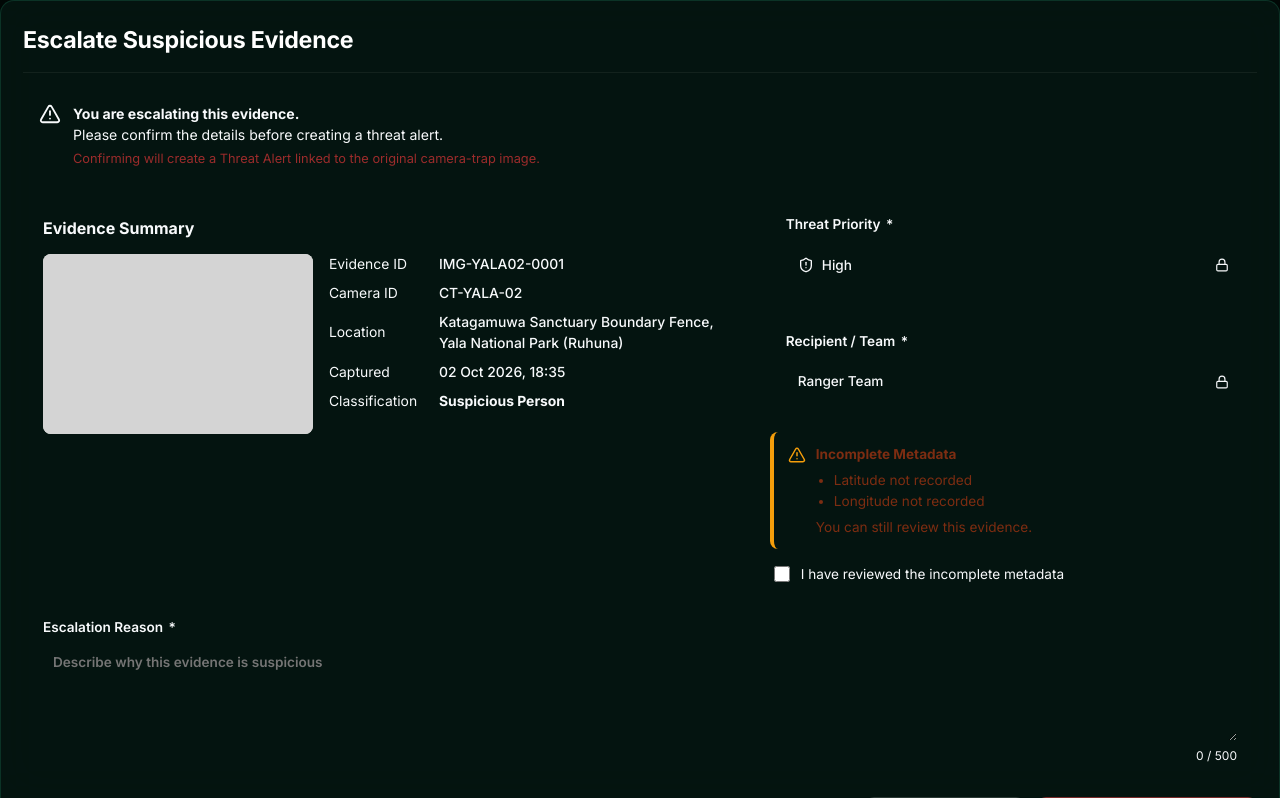
EscalateEvidenceView - incomplete metadata › lists the missing metadata and requires the acknowledgement before confirming
expect the message shows "Incomplete Metadata": met, box left=816, top=446, right=956, bottom=462
expect the message shows "Latitude not recorded": met, box left=834, top=472, right=972, bottom=488
Type "Rifle visible" into the text box labelled "Escalation Reason *" at [640, 692], box left=43, top=644, right=1237, bottom=741
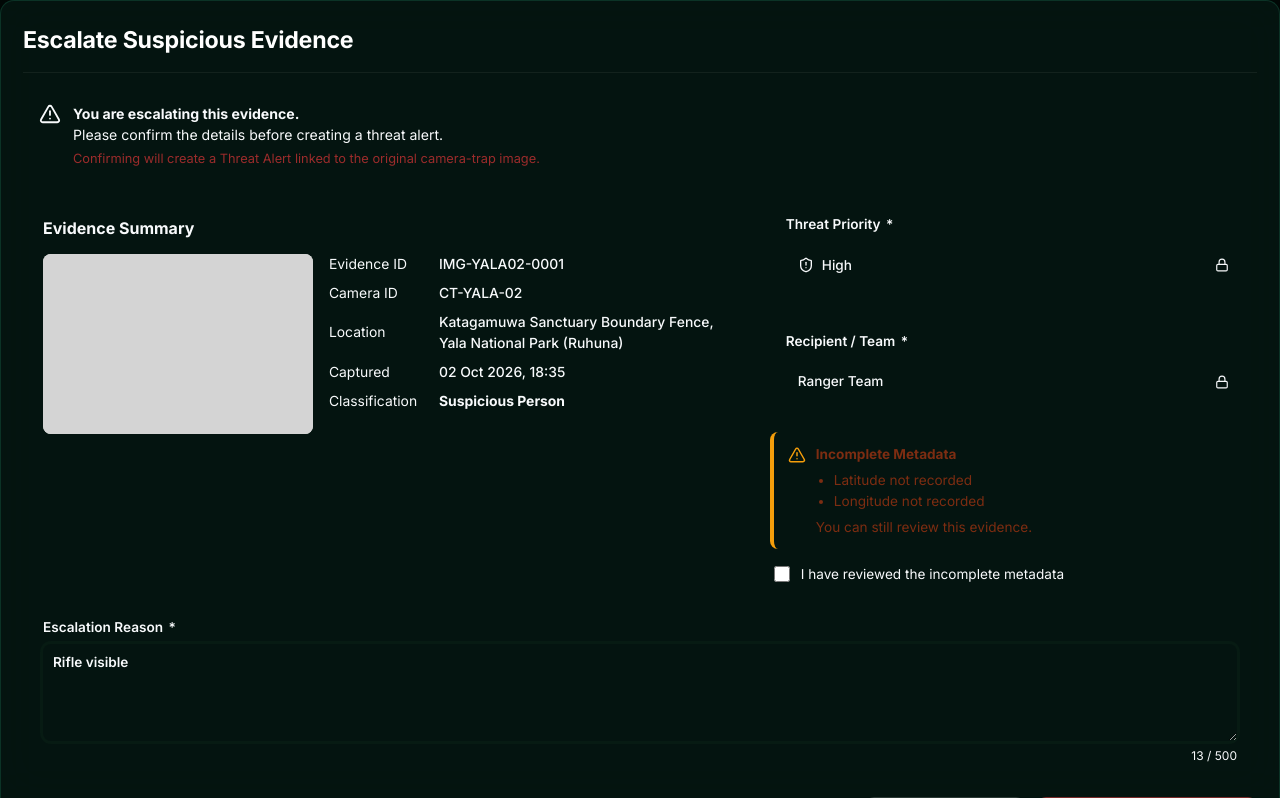
Click the checkbox labelled "I have reviewed the incomplete metadata" at [782, 574], box left=774, top=566, right=790, bottom=582
(page scrolled)
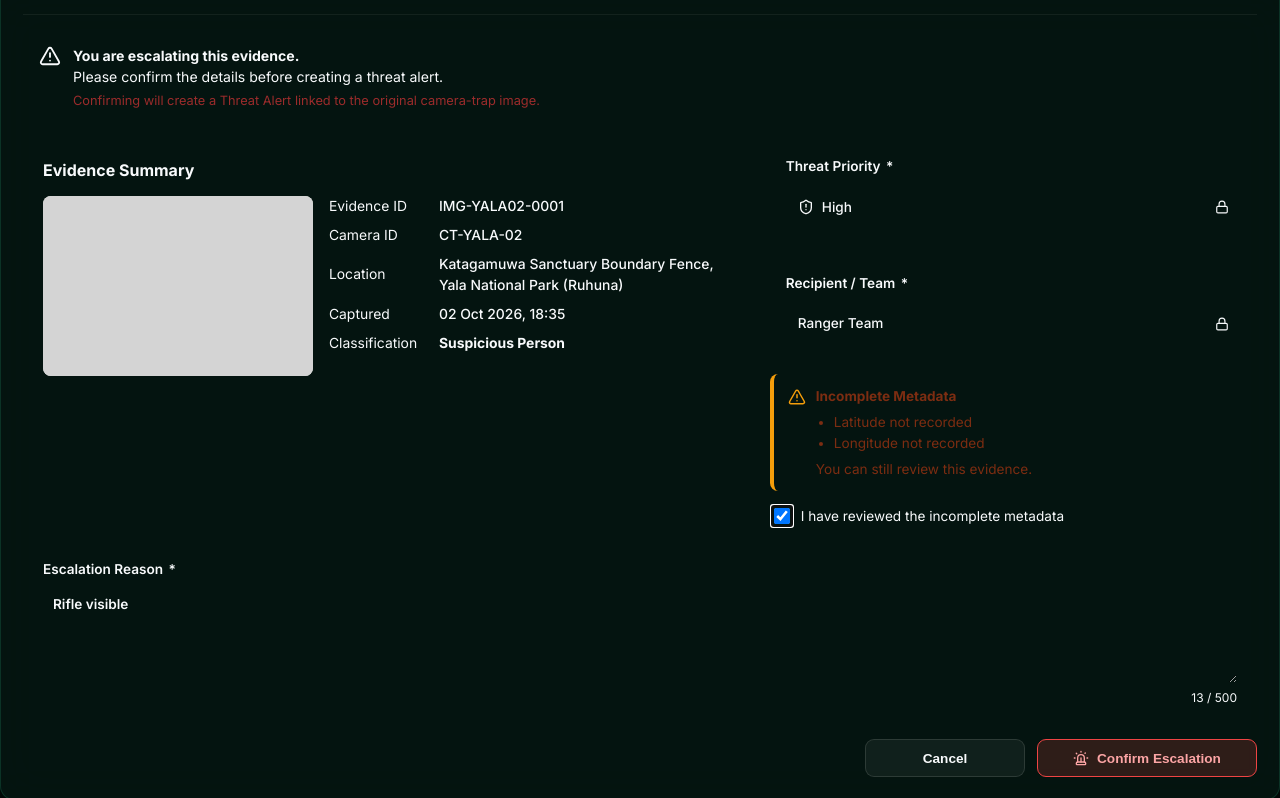
expect the button "Confirm Escalation" is enabled: met, box left=1037, top=739, right=1257, bottom=777
